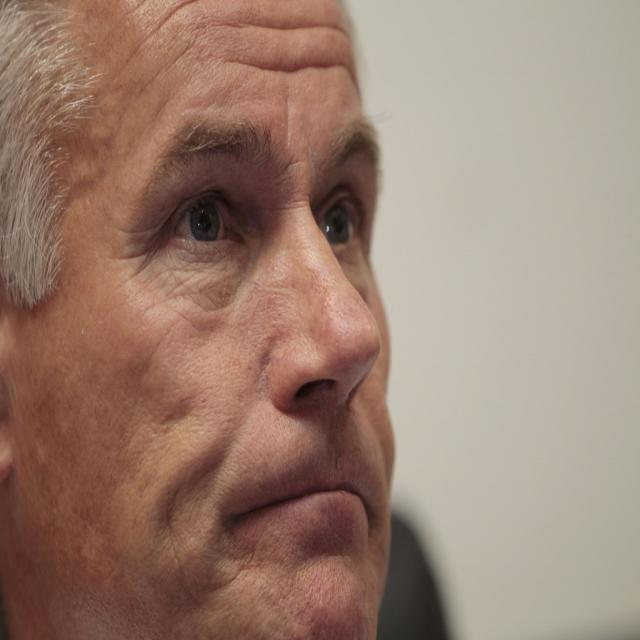closed-mouth: (219, 457, 379, 560)
